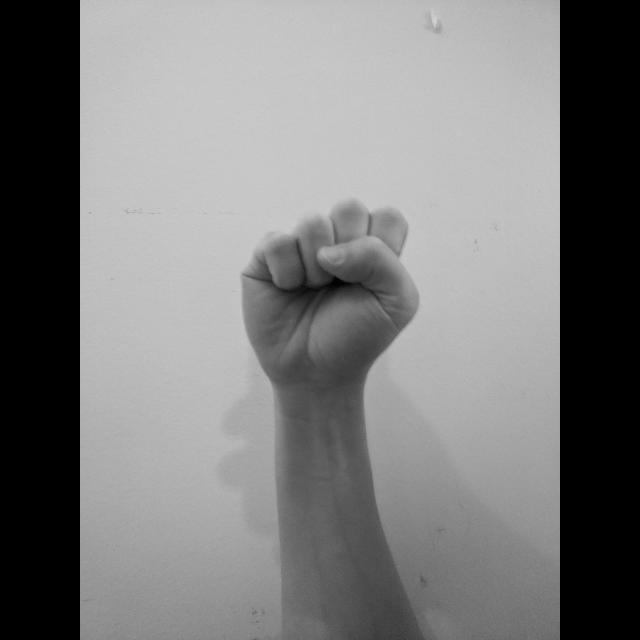S: (236, 192, 424, 394)
